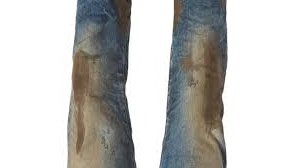earth: (202, 36, 225, 122), (72, 54, 89, 151), (199, 124, 223, 167), (71, 151, 99, 166), (119, 0, 129, 26), (183, 56, 197, 73), (98, 105, 112, 121), (175, 0, 180, 24)
